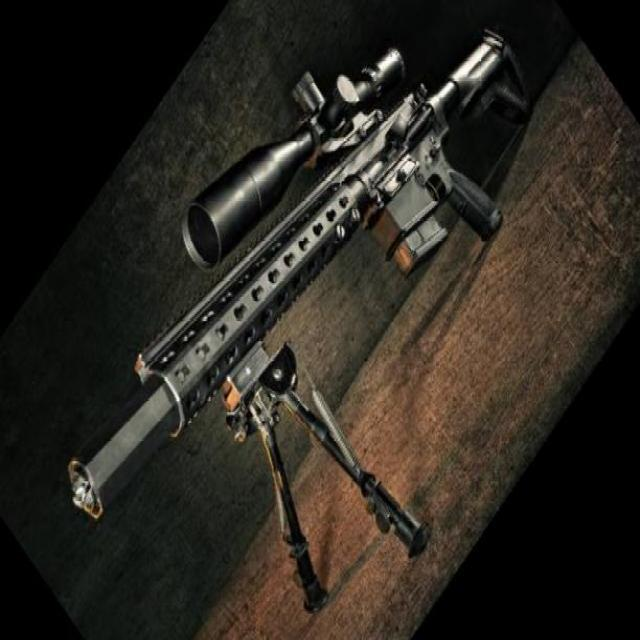weapon: (68, 30, 536, 614)
